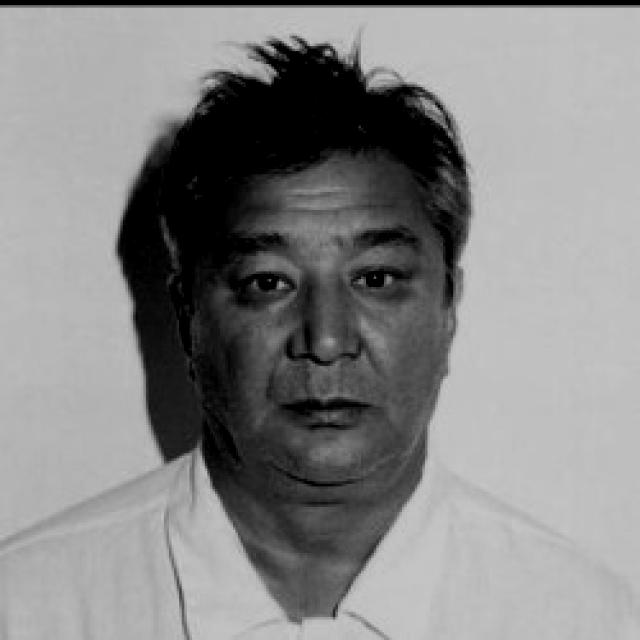real: (180, 56, 464, 486), (214, 234, 418, 312)
